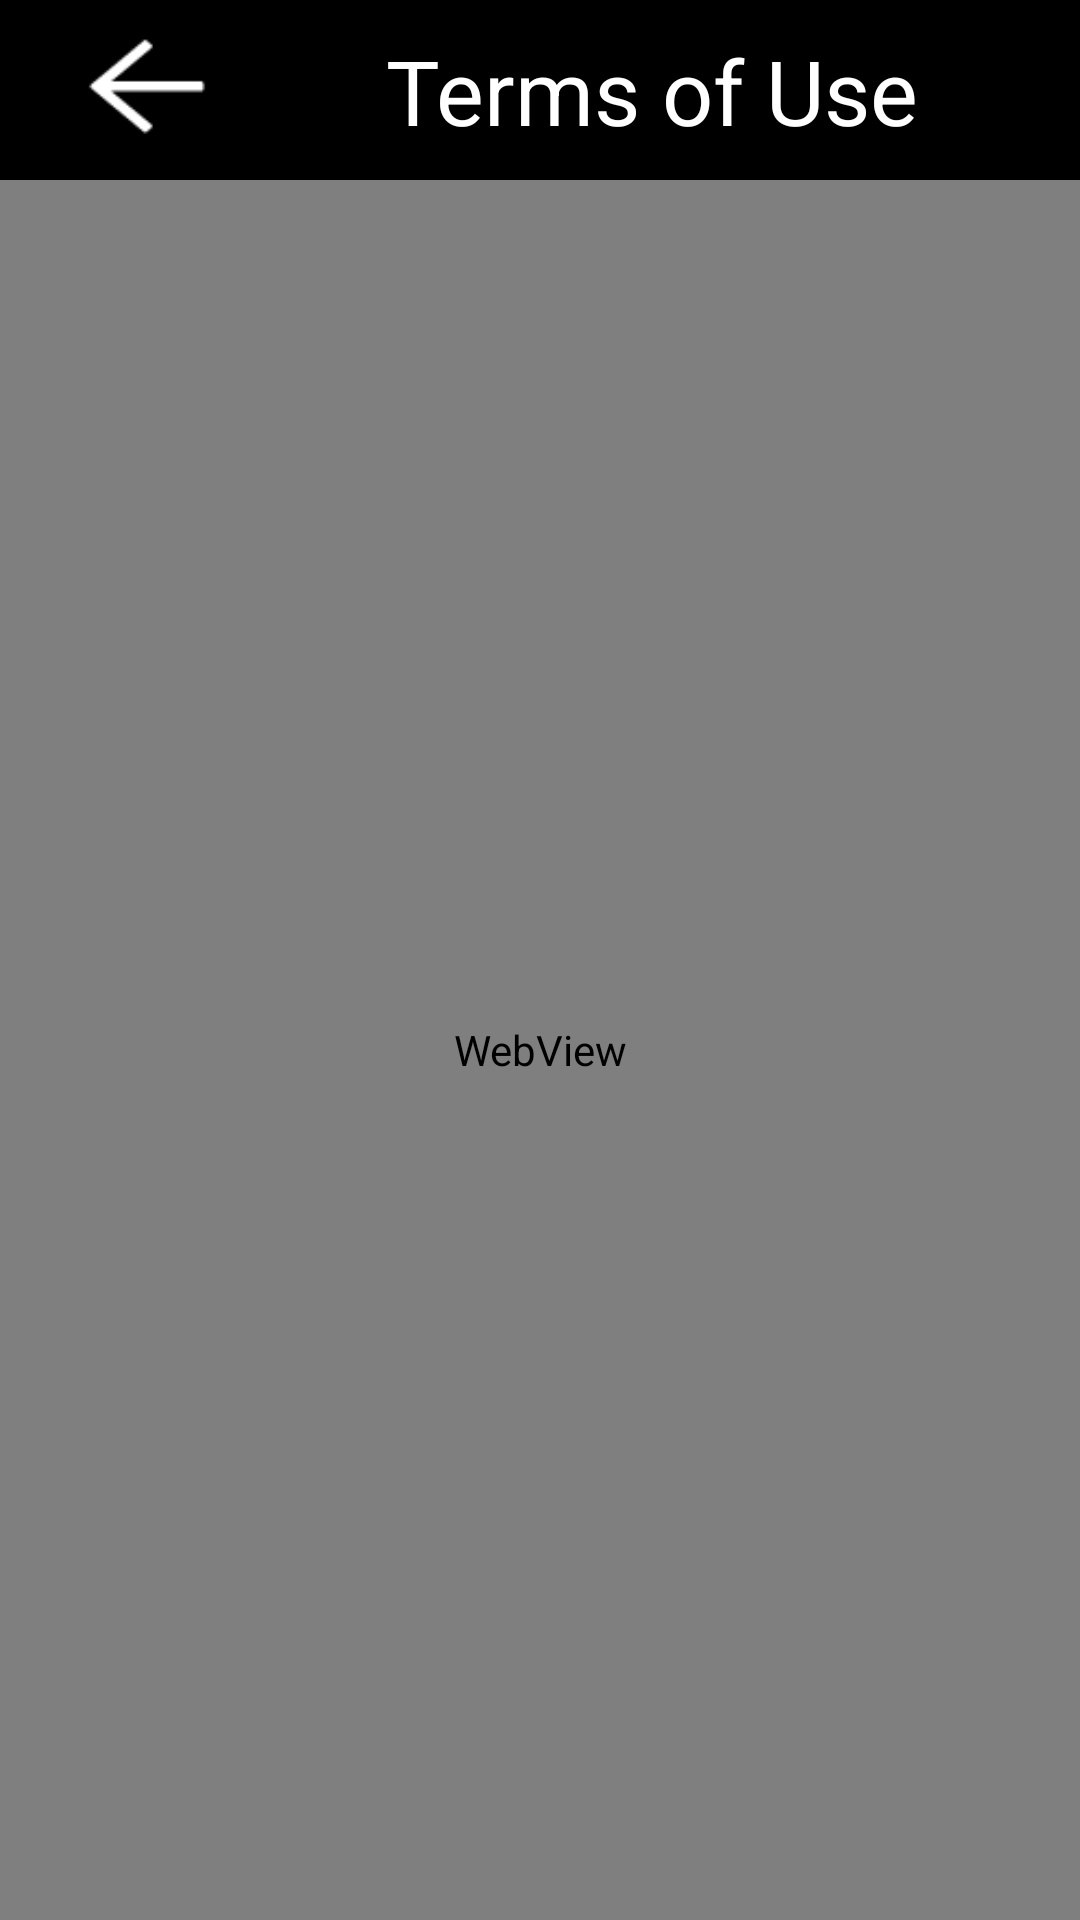

Icon bounding boxes for this 1080px x 1920px phone screenshot, format rect(x1, y1, x2, y2):
back: rect(89, 39, 205, 134)
